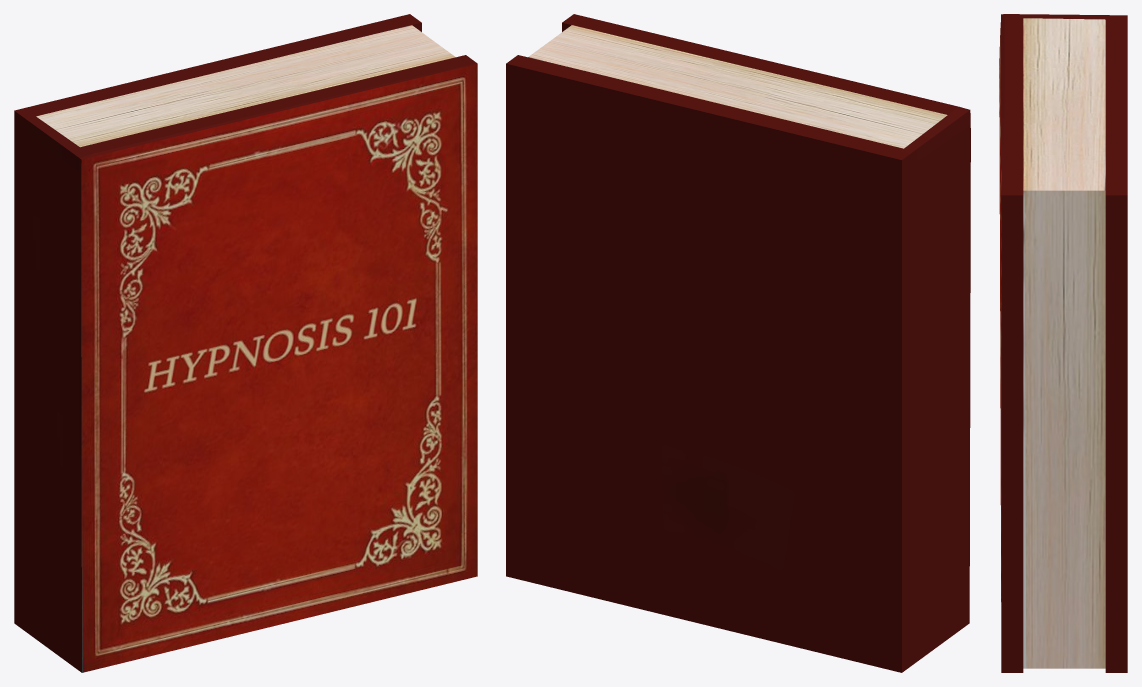
File: Question 3.HypnosisBookClue.fbx
3 renders of one model, left to right at view 1: azimuth 30°, elevation 25°; view 2: azimuth 150°, elevation 25°; view 3: azimuth 270°, elevation 25°, orthographic. The views are drawn at different scales.
Visible parts, largest first — view 1: Cube.004; view 2: Cube.004; view 3: Cube.004.
Boxes of the visible parts, x1,y1,x2,y2 form: Cube.004: (14,14,477,672); Cube.004: (506,14,970,672); Cube.004: (999,14,1127,672).
Bounding box in the file's own units: 118 × 146 × 35.39.
